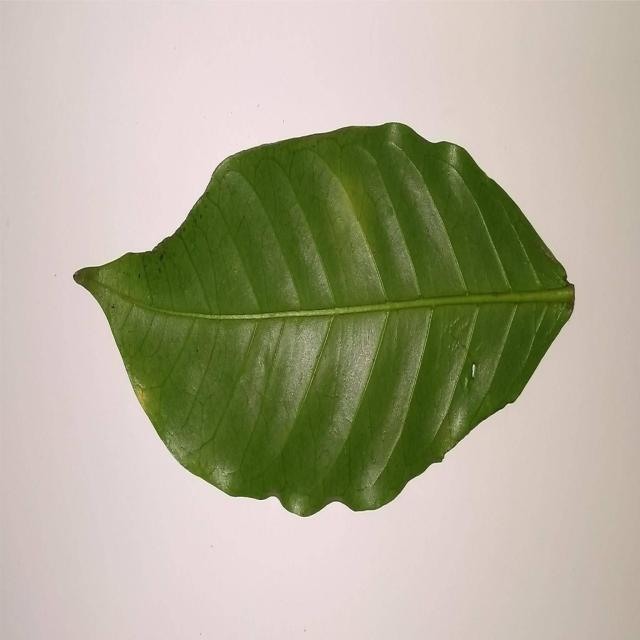nodisease: (73, 123, 574, 516)
